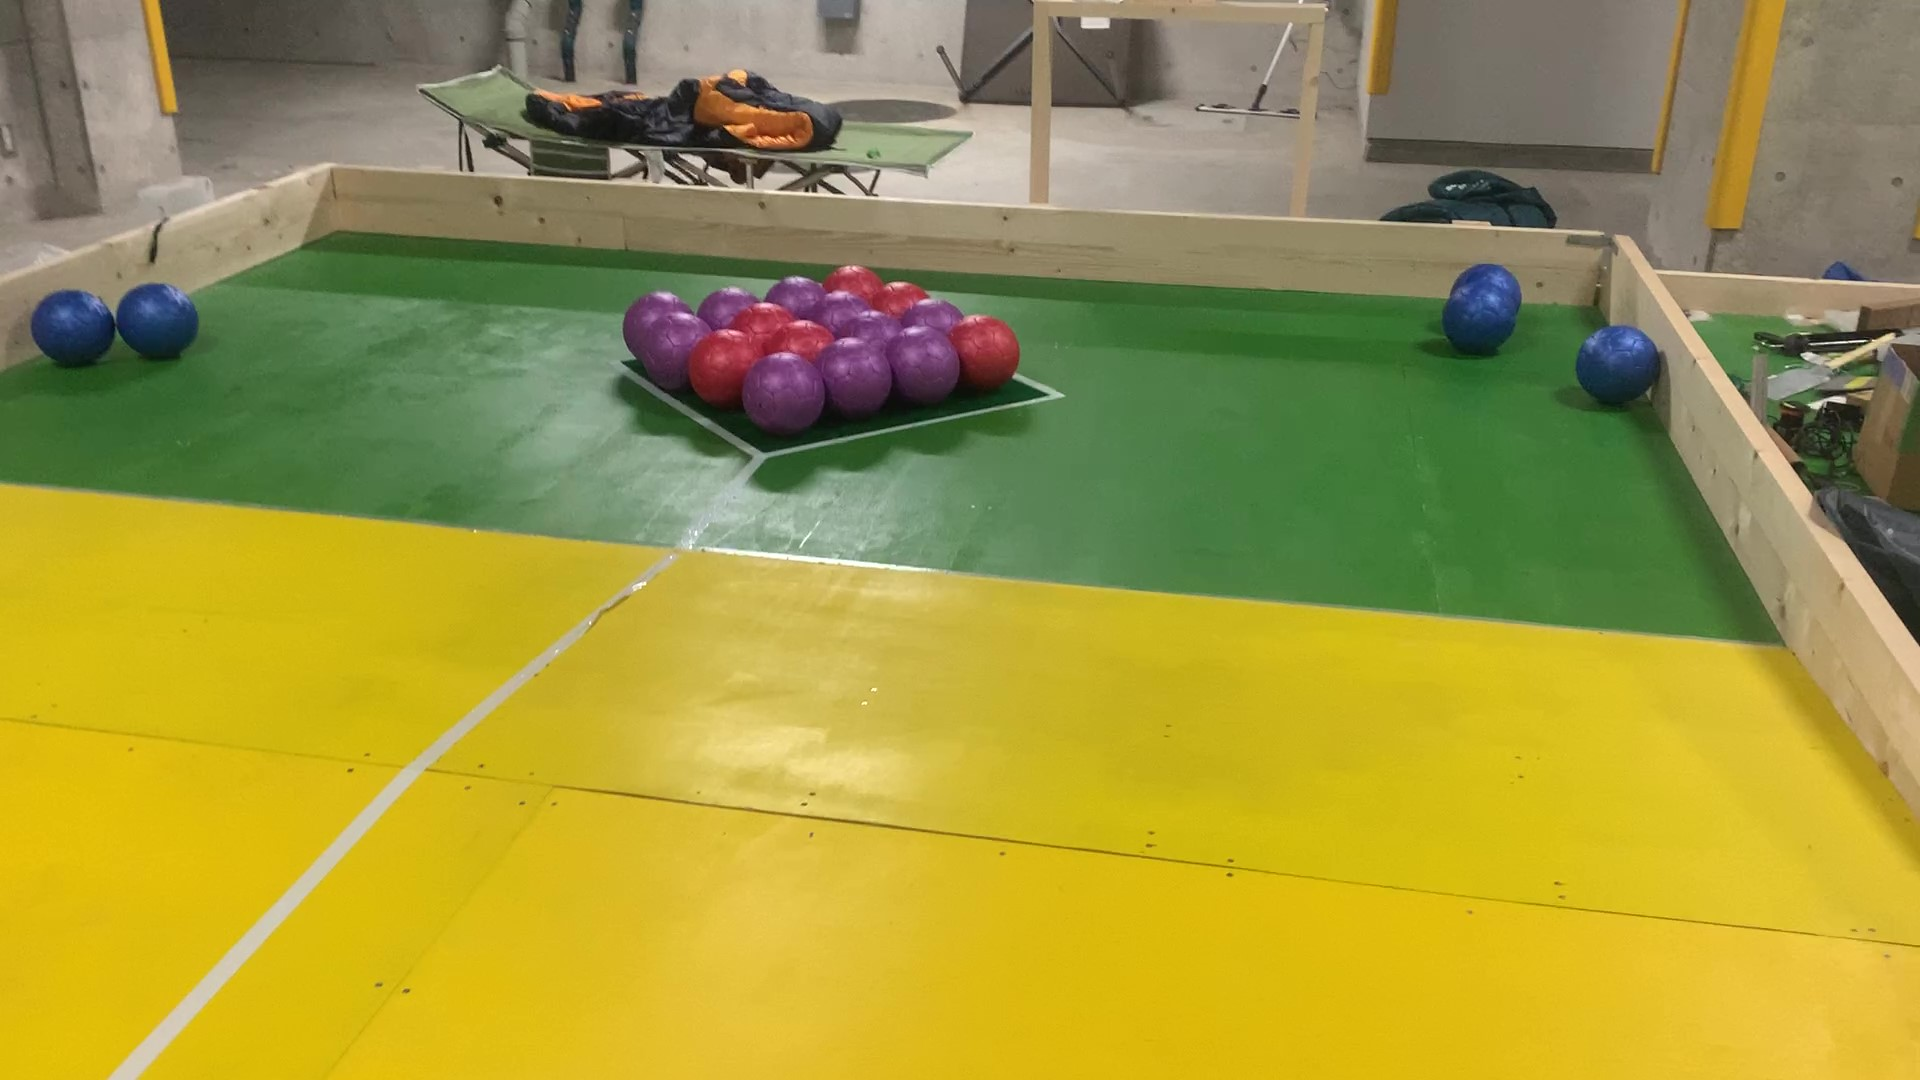blue: (120, 287, 196, 356), (1578, 332, 1654, 396), (40, 293, 100, 356), (1452, 289, 1507, 352), (1468, 265, 1514, 287)
purple: (754, 359, 816, 421), (832, 342, 884, 409), (647, 318, 687, 392), (902, 334, 945, 396), (625, 291, 694, 315), (707, 287, 740, 330), (774, 276, 820, 305), (851, 316, 899, 339), (914, 299, 956, 324), (815, 301, 866, 320)
red: (968, 320, 1011, 386), (699, 342, 741, 404), (833, 266, 881, 294), (778, 326, 828, 351), (742, 306, 786, 334), (884, 282, 916, 306)
